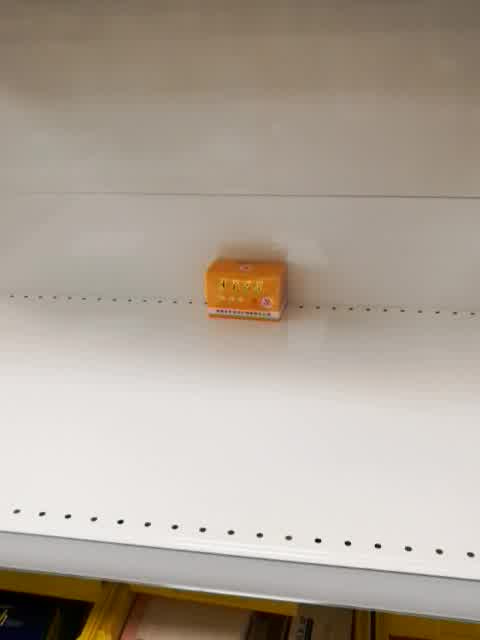jasminetea: (205, 256, 291, 325)
